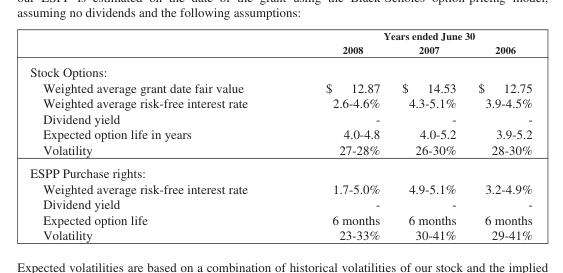table: (29, 29, 531, 241)
table column: (29, 29, 286, 241), (286, 29, 390, 241), (390, 29, 466, 241), (466, 29, 531, 241)
table column header: (29, 29, 531, 59)
table projected row header: (29, 59, 531, 79), (29, 160, 531, 180)
table row: (29, 59, 531, 79), (29, 160, 531, 180), (29, 141, 531, 160), (29, 42, 531, 59), (29, 79, 531, 95), (29, 110, 531, 126), (29, 195, 531, 211), (29, 95, 531, 110), (29, 126, 531, 141), (29, 180, 531, 195), (29, 211, 531, 226), (29, 226, 531, 241), (29, 29, 531, 42)
table spanning cell: (286, 29, 531, 42)
